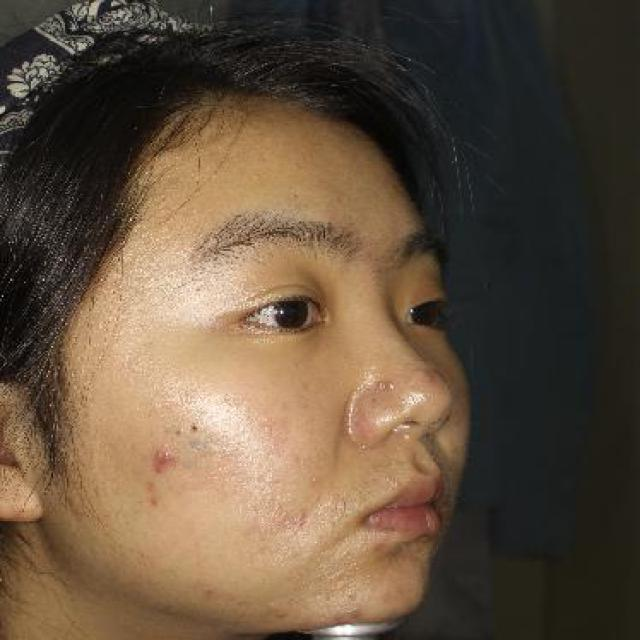papules: (406, 363, 440, 383)
pustules: (149, 445, 180, 469), (366, 377, 404, 394)
